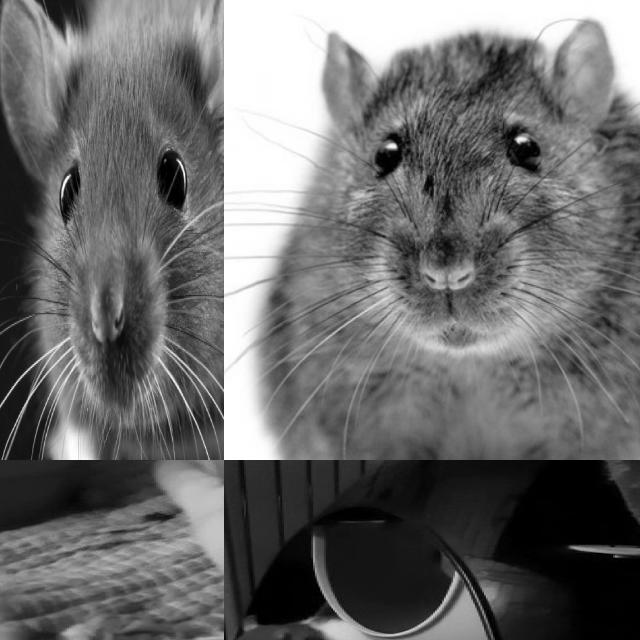rat: (224, 5, 640, 460), (0, 0, 224, 460), (224, 610, 438, 640)
